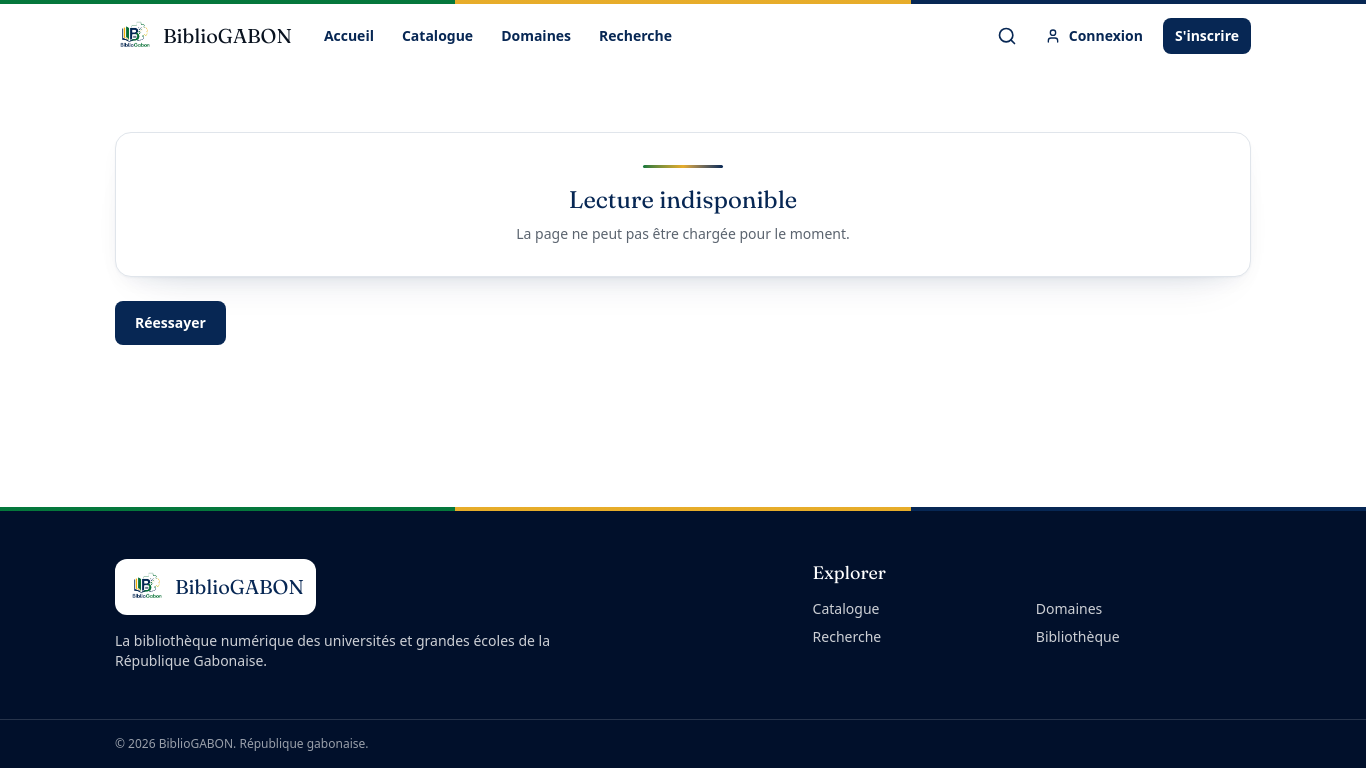
Test: secure reader route › closes the active session before retrying a failed page request
Click the button "Réessayer" at [170, 323], box [115,301,226,345]
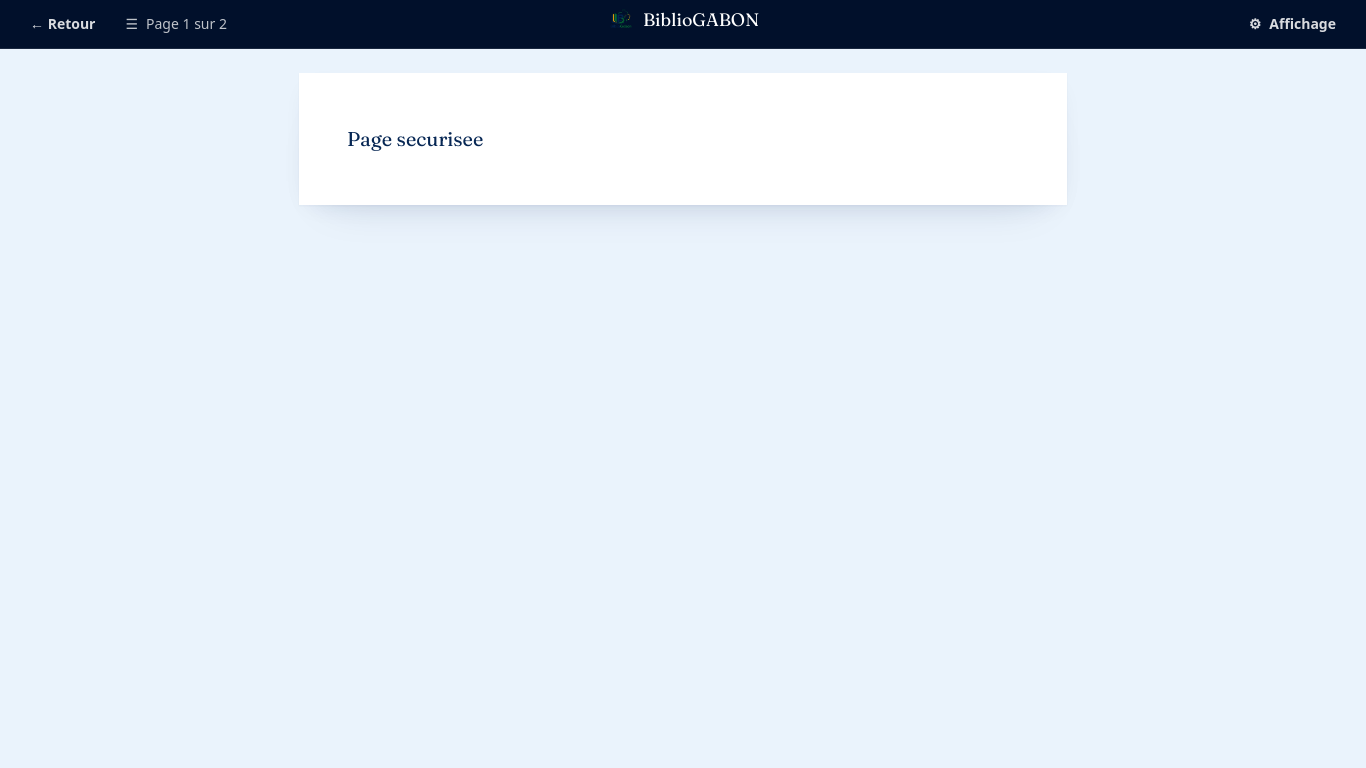
Check: the button "☰Page 1 sur 2" is shown, box [118,10,235,38]
